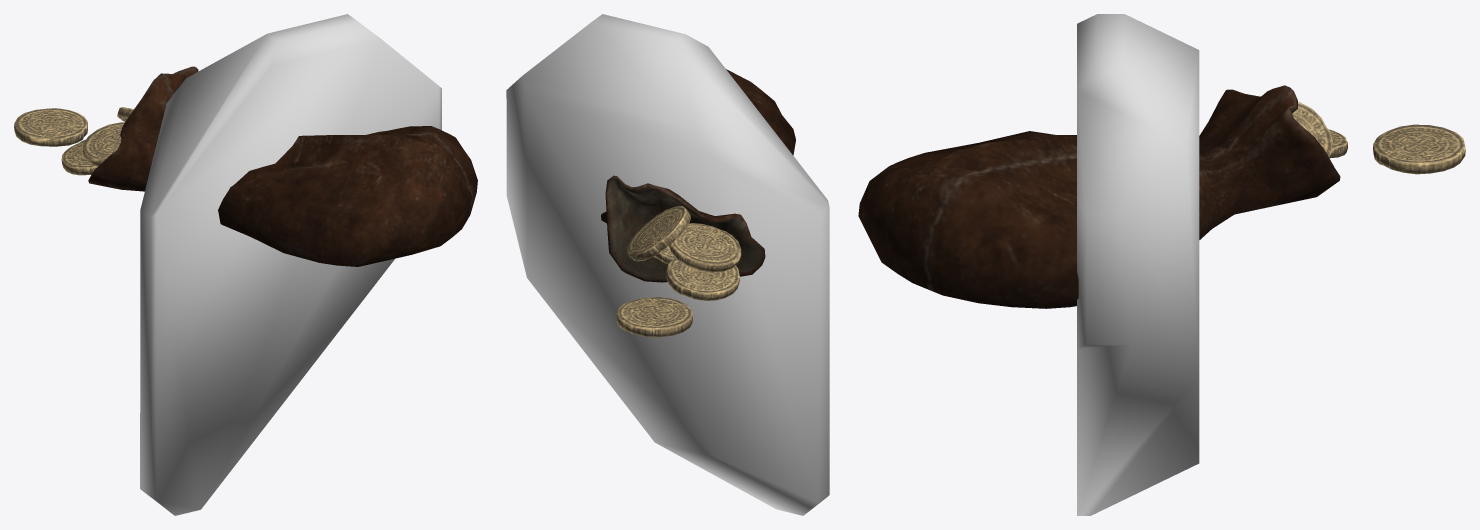
The model's file is SM_Bag_of_Coins_A_Assembled.fbx.
3 renders of one model, left to right at view 1: azimuth 30°, elevation 25°; view 2: azimuth 150°, elevation 25°; view 3: azimuth 270°, elevation 25°, orthographic. The views are drawn at different scales.
Visible parts, largest first — view 1: SM_Bag_of_Coins_A_Assembled_ConvexHulls, SM_Bag_of_Coins_A_Assembled; view 2: SM_Bag_of_Coins_A_Assembled_ConvexHulls, SM_Bag_of_Coins_A_Assembled; view 3: SM_Bag_of_Coins_A_Assembled_ConvexHulls, SM_Bag_of_Coins_A_Assembled.
Boxes of the visible parts, box(x1,y1,x2,y2) form: SM_Bag_of_Coins_A_Assembled_ConvexHulls: box(140, 14, 441, 515); SM_Bag_of_Coins_A_Assembled: box(14, 66, 477, 266); SM_Bag_of_Coins_A_Assembled_ConvexHulls: box(506, 14, 829, 515); SM_Bag_of_Coins_A_Assembled: box(601, 69, 795, 337); SM_Bag_of_Coins_A_Assembled_ConvexHulls: box(1077, 14, 1199, 515); SM_Bag_of_Coins_A_Assembled: box(858, 85, 1465, 308).
Size of the model in its own units: 0.3131 by 0.4512 by 0.448.
